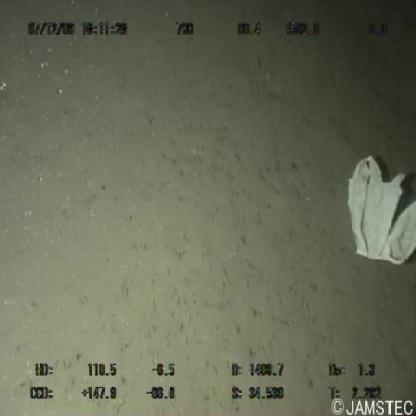Rác: (342, 152, 416, 270)
